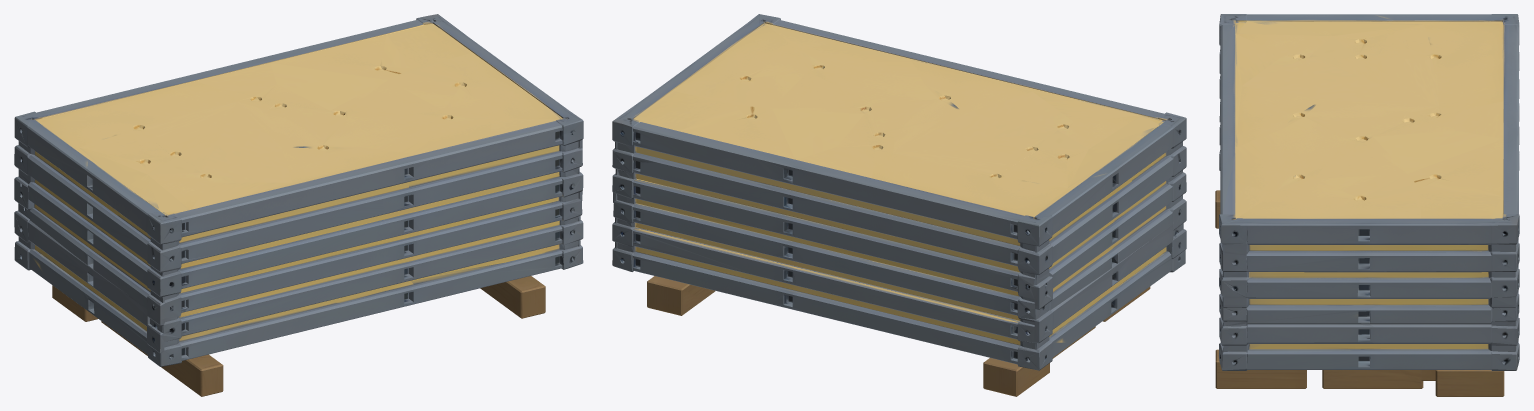
The model's file is euroform_stack.glb.
3 renders of one model, left to right at view 1: azimuth 30°, elevation 25°; view 2: azimuth 150°, elevation 25°; view 3: azimuth 270°, elevation 25°, orthographic.
Parts seen in each view (by area): view 1: euroform_stack; view 2: euroform_stack; view 3: euroform_stack.
Part boxes in pixels (x1,y1,x2,y2): euroform_stack: [14, 14, 583, 396]; euroform_stack: [612, 14, 1186, 396]; euroform_stack: [1215, 14, 1519, 396].
Size of the model in its own units: 1.2 by 0.4965 by 0.7325.
1 material, 1 textured.
